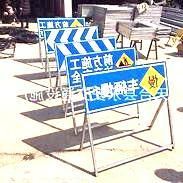sign: (84, 71, 166, 109), (68, 55, 133, 69), (38, 18, 88, 28)
